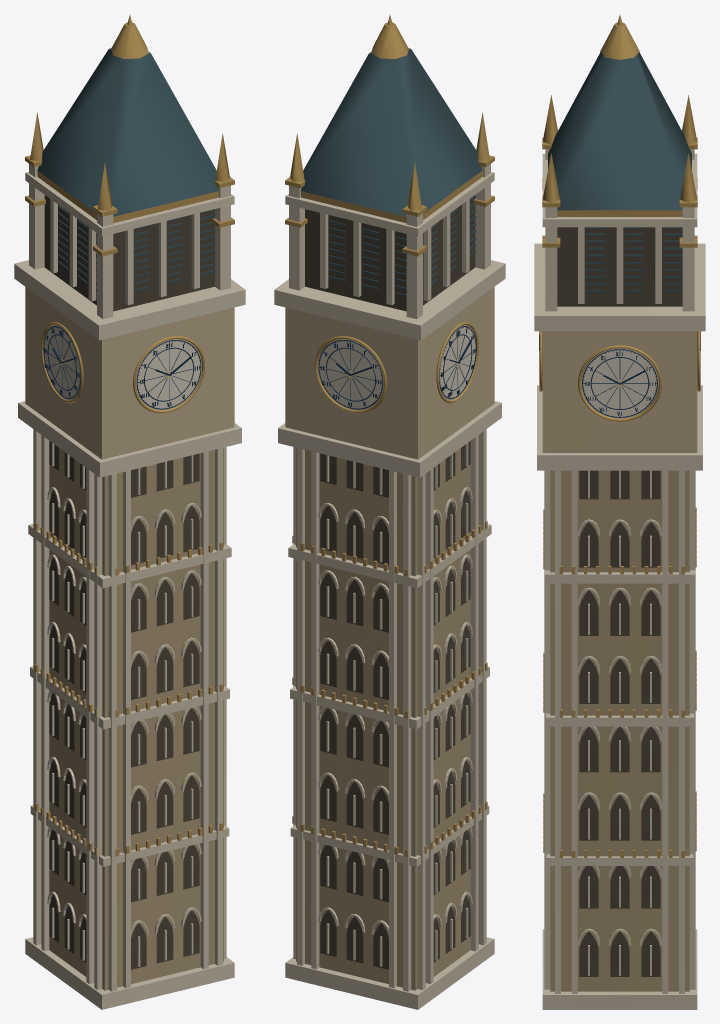
File: landmark-big-ben-high-v2.glb
3 views of the same model, side by side, from view 1: azimuth 30°, elevation 25°; view 2: azimuth 150°, elevation 25°; view 3: azimuth 270°, elevation 25° (orthographic).
Parts seen in each view (by area): view 1: Big Ben; view 2: Big Ben; view 3: Big Ben.
Part boxes in pixels (x1,y1,x2,y2): Big Ben: (14, 15, 245, 1009); Big Ben: (274, 15, 505, 1009); Big Ben: (534, 15, 705, 1009).
Size of the model in its own units: 0.1615 by 1 by 0.1615.
